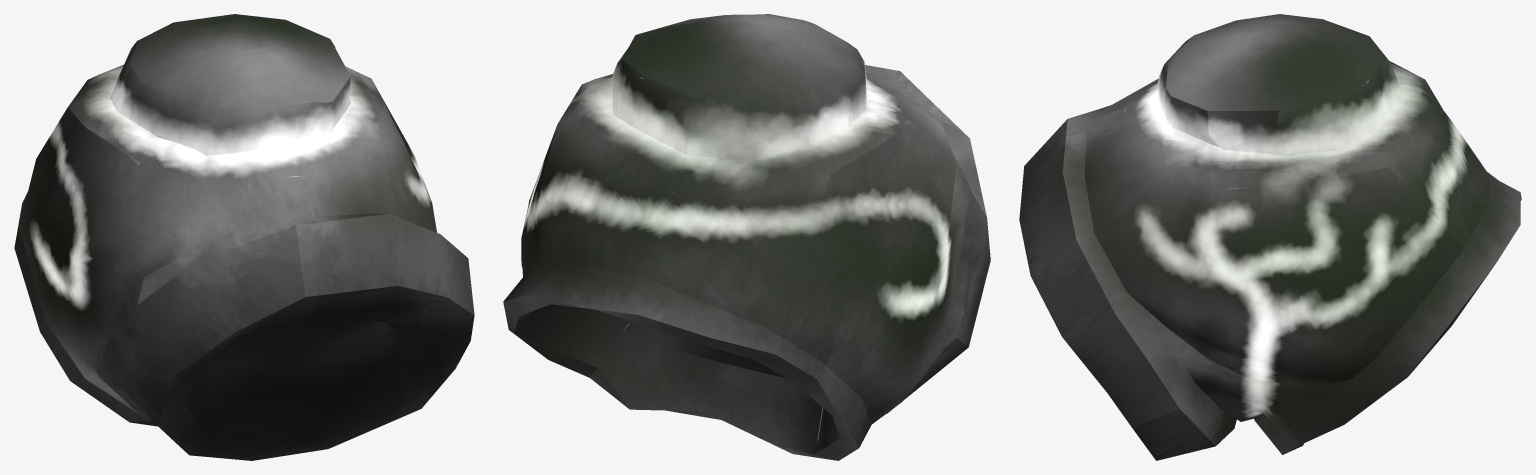
Rendered from mesh_messh canne a peche 3.fbx.
The picture shows the model from 3 angles, left to right: view 1: azimuth 30°, elevation 25°; view 2: azimuth 150°, elevation 25°; view 3: azimuth 270°, elevation 25°; orthographic projection. The views are drawn at different scales.
Parts seen in each view (by area): view 1: Plane.008; view 2: Plane.008; view 3: Plane.008.
Part boxes in pixels (x1,y1,x2,y2): Plane.008: [14, 14, 474, 460]; Plane.008: [503, 14, 990, 460]; Plane.008: [1019, 14, 1521, 460].
Bounding box in the file's own units: 102 × 107 × 126.
